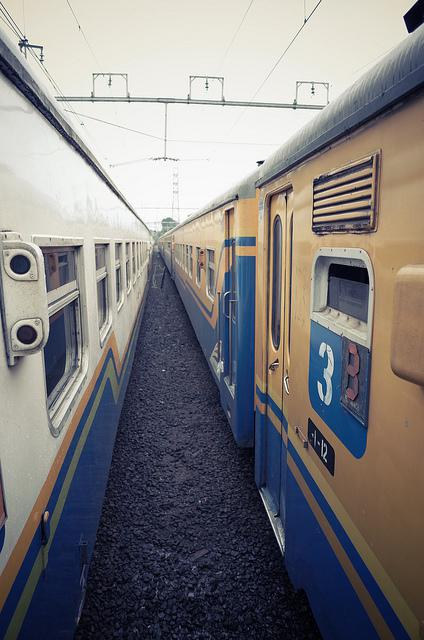Train: (0, 25, 423, 640)
